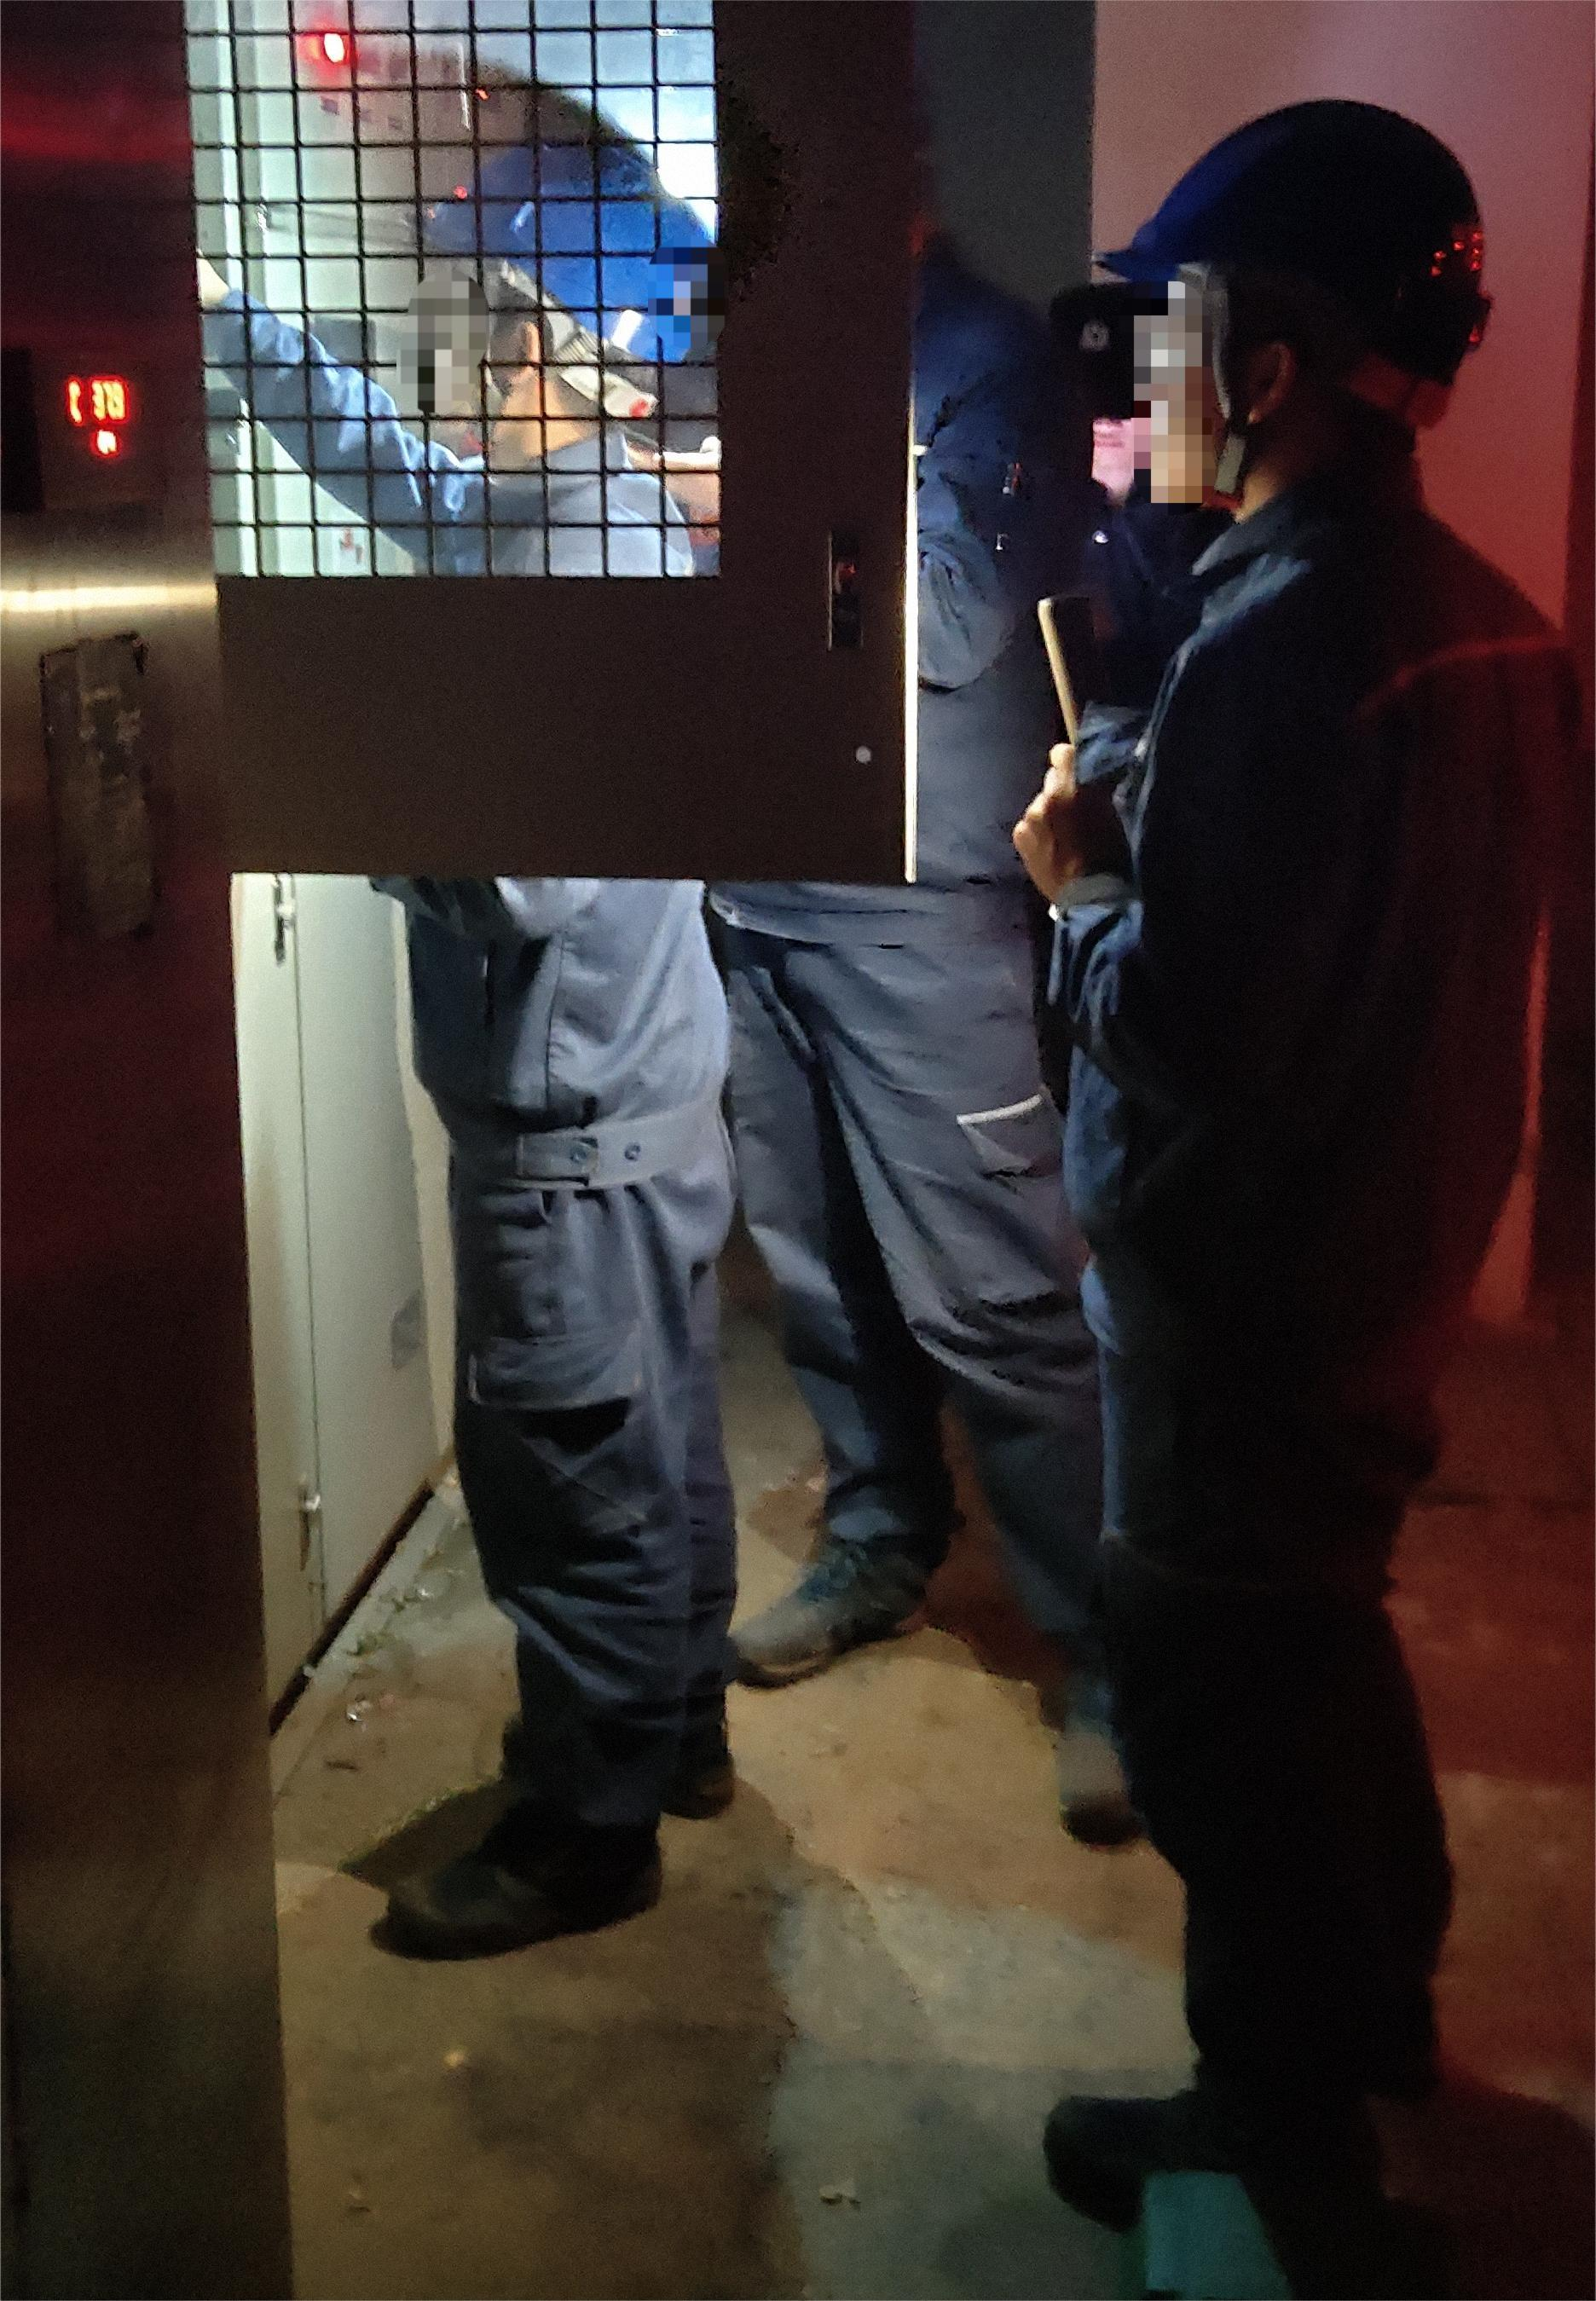halt: (1121, 103, 1491, 511), (437, 135, 708, 458)
inear: (1206, 280, 1334, 463), (467, 290, 558, 434)
